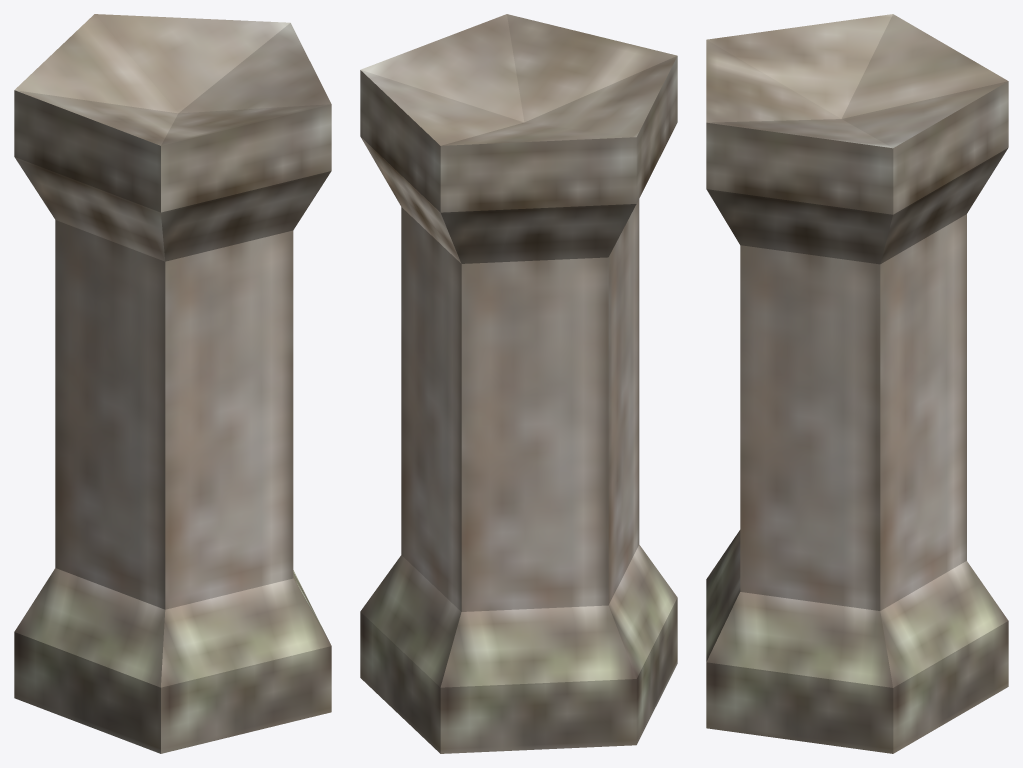
File: Pillar01.obj
3 views of the same model, side by side, from view 1: azimuth 30°, elevation 25°; view 2: azimuth 150°, elevation 25°; view 3: azimuth 270°, elevation 25° (orthographic).
Visible parts, largest first — view 1: Pillar01; view 2: Pillar01; view 3: Pillar01.
Boxes of the visible parts, x1,y1,x2,y2 form: Pillar01: (14,14,331,753); Pillar01: (360,14,677,753); Pillar01: (706,14,1008,753).
Size of the model in its own units: 0.9511 by 2 by 0.9045.
